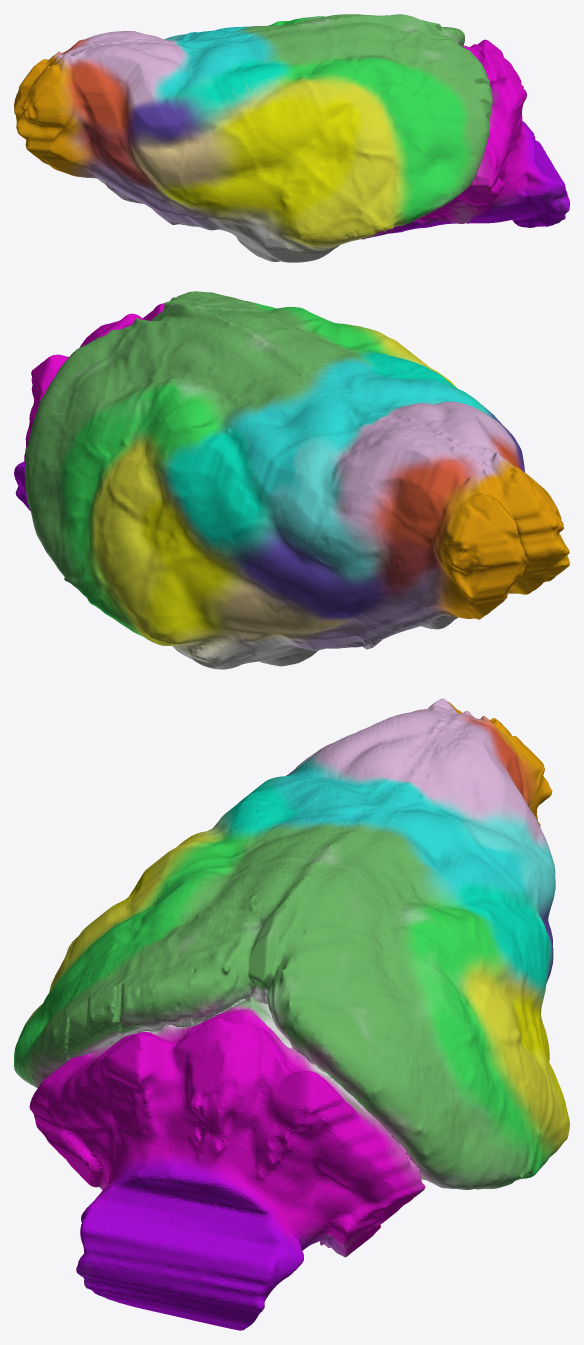
Rendered from neogale-endocast.glb.
3 renders of one model, top to bottom at view 1: azimuth 30°, elevation 25°; view 2: azimuth 150°, elevation 25°; view 3: azimuth 270°, elevation 25°, orthographic. The views are drawn at different scales.
Parts seen in each view (by area): view 1: geometry_0; view 2: geometry_0; view 3: geometry_0.
Part boxes in pixels (x1,y1,x2,y2): geometry_0: (14,14,569,262); geometry_0: (14,291,569,669); geometry_0: (14,698,569,1330).
Size of the model in its own units: 43.22 by 18.82 by 27.42.
